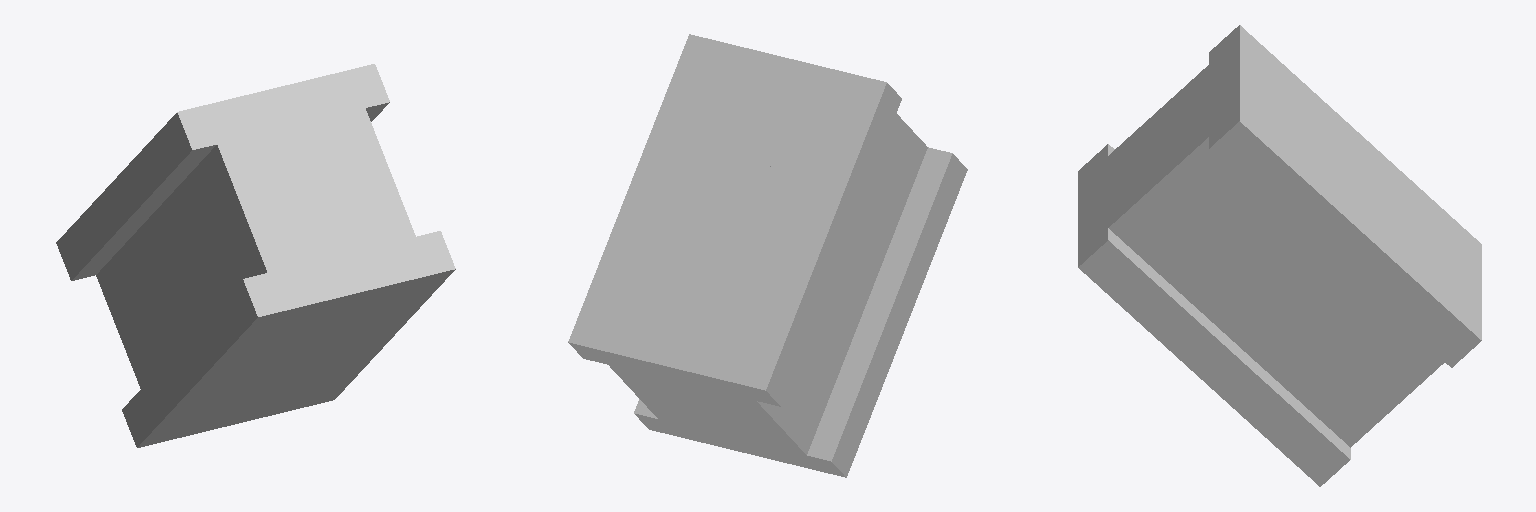
The model's file is ascending.obj.
3 views of the same model, side by side, from view 1: azimuth 30°, elevation 25°; view 2: azimuth 150°, elevation 25°; view 3: azimuth 270°, elevation 25° (orthographic).
Visible parts, largest first — view 1: middle.001, bottom, bottom.001, middle, top.001, top; view 2: top, top.001, middle, bottom, bottom.001, middle.001; view 3: middle, top, middle.001, top.001, bottom, bottom.001.
Part boxes in pixels (x1,y1,x2,y2): middle.001: (177,108,415,301); bottom: (122,313,414,447); bottom.001: (203,231,455,360); middle: (96,188,220,388); top.001: (137,64,389,193); top: (56,156,175,280); top: (568,137,861,406); top.001: (649,34,901,200); middle: (609,216,886,454); bottom: (634,250,926,477); bottom.001: (888,147,967,271); middle.001: (856,113,927,249); middle: (1189,216,1444,447); top: (1291,98,1481,367); middle.001: (1108,65,1282,300); top.001: (1209,25,1319,221); bottom: (1159,302,1350,486); bottom.001: (1078,144,1188,340).
Size of the model in its own units: 1 by 1.77 by 1.77.